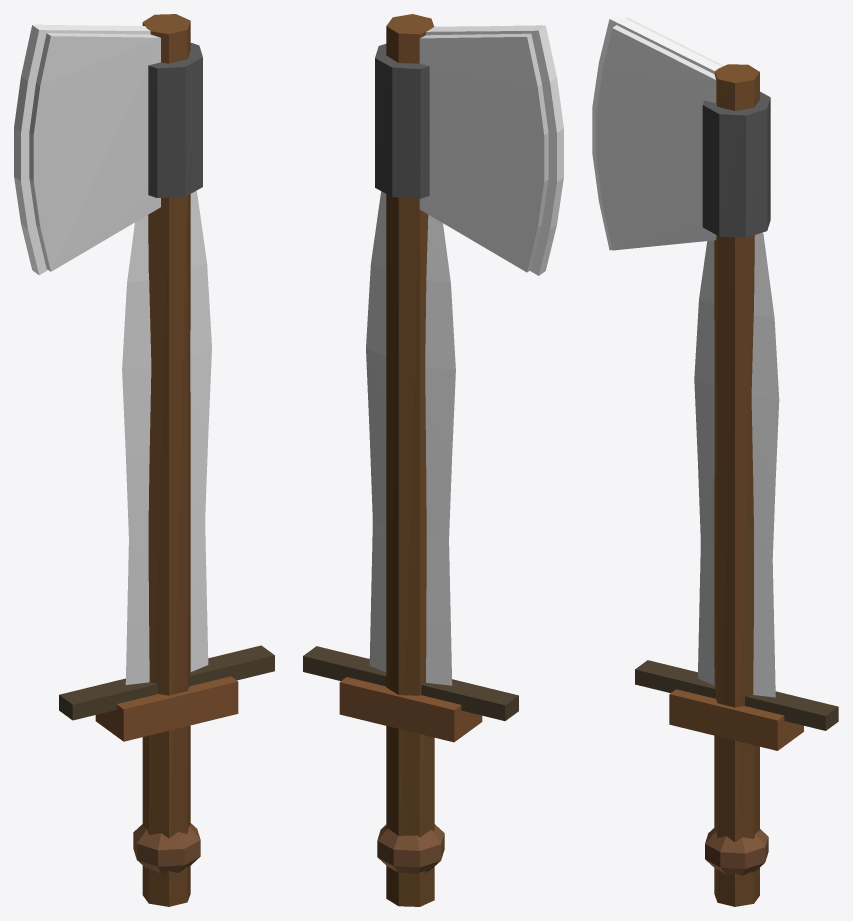
The model's file is weapons.glb.
3 renders of one model, left to right at view 1: azimuth 30°, elevation 25°; view 2: azimuth 150°, elevation 25°; view 3: azimuth 330°, elevation 25°, orthographic. The views are drawn at different scales.
Visible parts, largest first — view 1: Hacha, Espada, Espadon; view 2: Hacha, Espada, Espadon; view 3: Hacha, Espada, Espadon.
Part boxes in pixels (x1=…): Hacha: x1=14, y1=14, x2=202, y2=906; Espada: x1=95, y1=190, x2=238, y2=873; Espadon: x1=59, y1=645, x2=274, y2=870; Hacha: x1=375, y1=14, x2=563, y2=906; Espada: x1=339, y1=191, x2=482, y2=873; Espadon: x1=303, y1=646, x2=518, y2=872; Hacha: x1=592, y1=14, x2=770, y2=906; Espada: x1=669, y1=232, x2=803, y2=875; Espadon: x1=635, y1=660, x2=838, y2=872.
Bounding box in the file's own units: 0.1977 × 0.679 × 0.0509.
